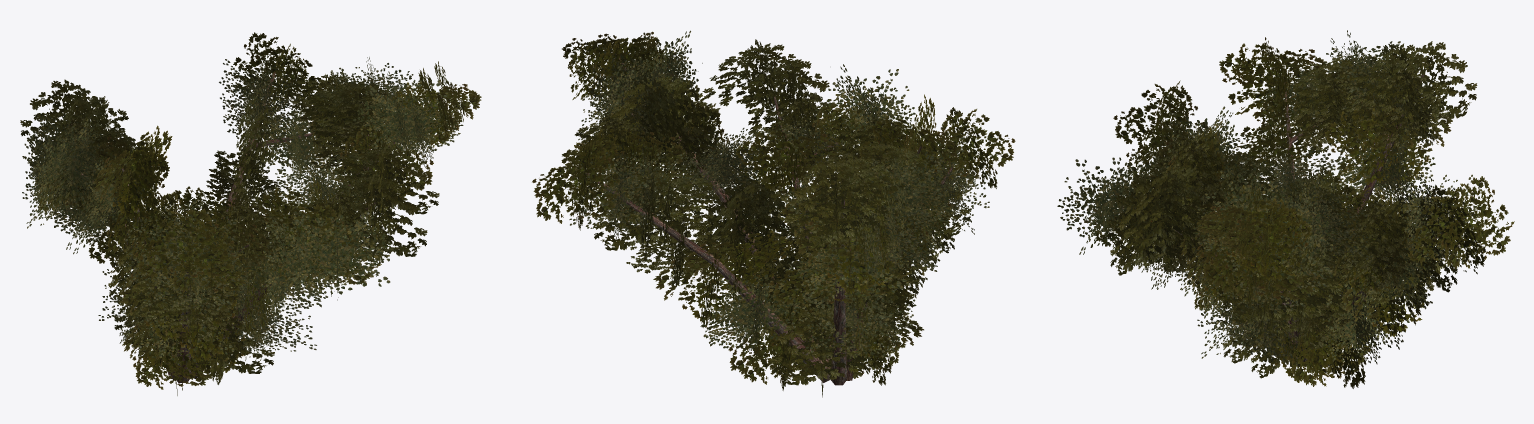
The model's file is bush_3d_05_lod0.glb.
3 renders of one model, left to right at view 1: azimuth 30°, elevation 25°; view 2: azimuth 150°, elevation 25°; view 3: azimuth 270°, elevation 25°, orthographic. The views are drawn at different scales.
Visible parts, largest first — view 1: foliage_cards, wood_geometry; view 2: foliage_cards, wood_geometry; view 3: foliage_cards, wood_geometry.
Part boxes in pixels (x1,y1,x2,y2): foliage_cards: (20,32,481,395); wood_geometry: (69,72,442,383); foliage_cards: (532,30,1015,397); wood_geometry: (585,52,953,385); foliage_cards: (1057,30,1514,388); wood_geometry: (1122,74,1464,365).
Bounding box in the file's own units: 2.84 × 1.72 × 2.5.
2 materials, 2 textured.
